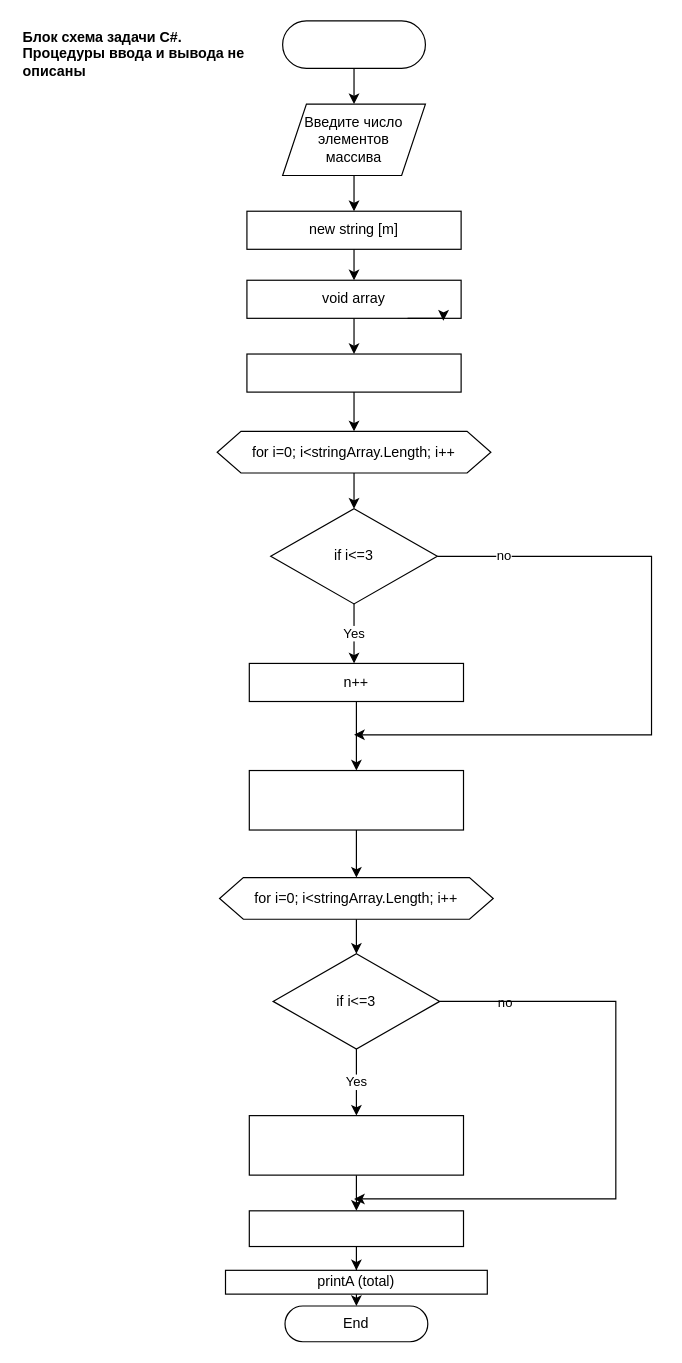
This 682x1363 diagram has some shape labels left out. Here are the shapes that lost their labels. From the top down, the box of each, then its label:
(281, 20, 425, 68): Start
(246, 353, 461, 392): int n = 0
(248, 769, 464, 830): string rez [ ] = new string n int j = 0
(248, 1114, 464, 1175): rez [j] = stringArray [i] j++
(248, 1210, 464, 1247): return rez
